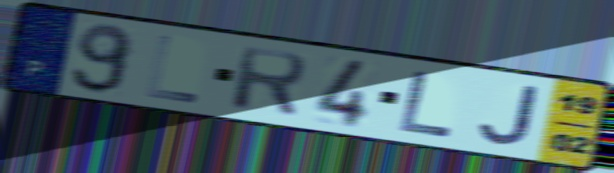4: (310, 56, 373, 131)
9: (67, 21, 137, 96)
J: (476, 83, 542, 148)
L: (395, 68, 459, 141), (142, 32, 201, 106)
R: (227, 44, 311, 120)
